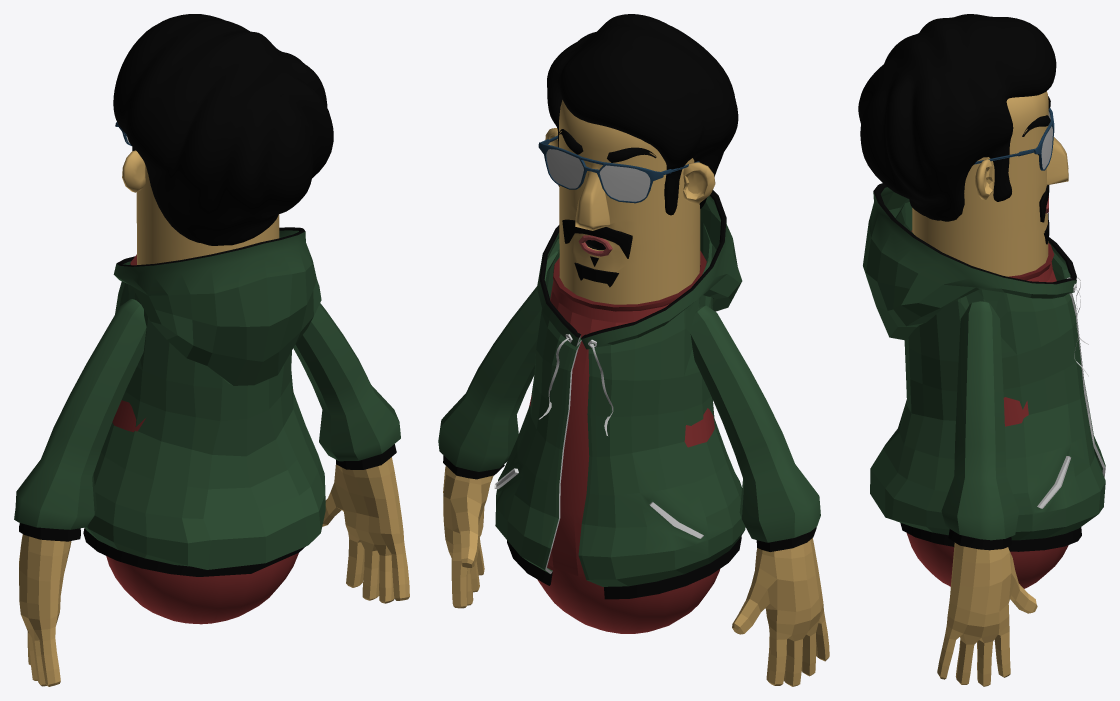
3 views of the same model, side by side, from view 1: azimuth 30°, elevation 25°; view 2: azimuth 150°, elevation 25°; view 3: azimuth 270°, elevation 25° (orthographic). The views are drawn at different scales.
Parts seen in each view (by area): view 1: Ed_houdy, Ed_hair, Ed_houdy_arm_R, Ed_houdy_arm_L, Ed_arm_L, Ed_body, Ed_arm_R, Ed_head, Ed_ear_R; view 2: Ed_houdy, Ed_hair, Ed_head, Ed_body, Ed_houdy_arm_R, Ed_houdy_arm_L, Ed_arm_R, Ed_arm_L, Ed_glasses_transp, Ed_glasses, Ed_ear_R, Ed_mustache_01; view 3: Ed_houdy, Ed_hair, Ed_houdy_arm_L, Ed_head, Ed_arm_L, Ed_body, Ed_ear_L, Ed_glasses.
Part boxes in pixels (<box>): Ed_houdy: <box>83,227,325,576</box>; Ed_hair: <box>113,14,333,245</box>; Ed_houdy_arm_R: <box>14,299,146,541</box>; Ed_houdy_arm_L: <box>293,303,400,469</box>; Ed_arm_L: <box>322,457,409,603</box>; Ed_body: <box>106,254,298,624</box>; Ed_arm_R: <box>19,534,71,686</box>; Ed_head: <box>136,165,279,264</box>; Ed_ear_R: <box>122,150,145,192</box>; Ed_houdy: <box>494,190,745,599</box>; Ed_hair: <box>547,14,738,215</box>; Ed_head: <box>559,100,700,304</box>; Ed_body: <box>529,251,719,633</box>; Ed_houdy_arm_R: <box>690,305,820,551</box>; Ed_houdy_arm_L: <box>438,276,559,479</box>; Ed_arm_R: <box>732,538,829,686</box>; Ed_arm_L: <box>443,466,493,608</box>; Ed_glasses_transp: <box>546,149,652,201</box>; Ed_glasses: <box>538,135,699,203</box>; Ed_ear_R: <box>683,162,715,203</box>; Ed_mustache_01: <box>562,219,632,258</box>; Ed_houdy: <box>863,183,1105,551</box>; Ed_hair: <box>858,14,1056,221</box>; Ed_houdy_arm_L: <box>941,301,1018,550</box>; Ed_head: <box>912,91,1068,276</box>; Ed_arm_L: <box>937,542,1037,686</box>; Ed_body: <box>906,230,1068,588</box>; Ed_ear_L: <box>975,159,992,199</box>; Ed_glasses: <box>974,108,1054,170</box>.
Size of the model in its own units: 0.0752 by 0.1172 by 0.0448.
